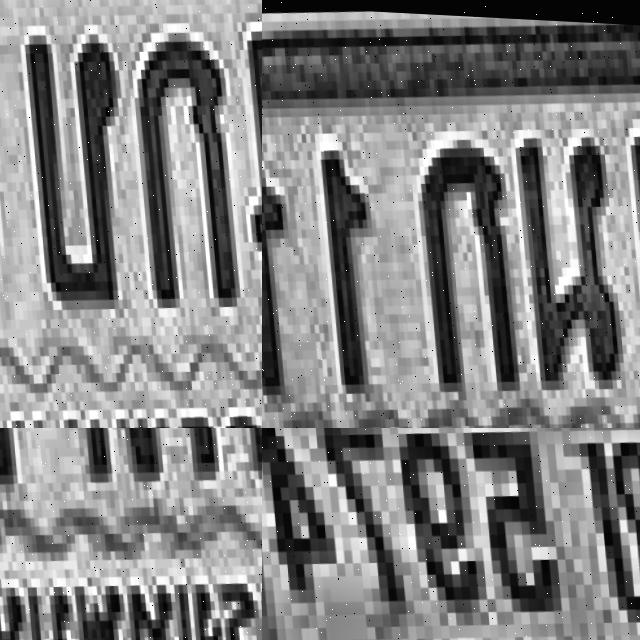license-plate: (262, 0, 640, 428), (0, 0, 262, 428), (262, 428, 640, 640), (0, 428, 262, 640)
